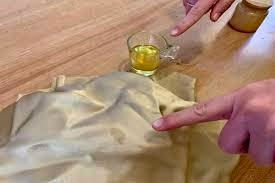oil: (101, 126, 131, 148)
